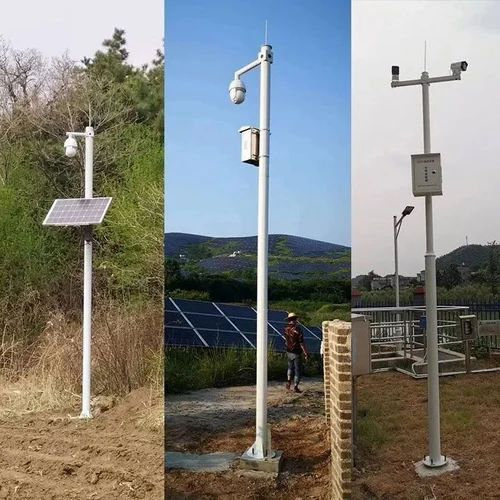light_pole: (411, 67, 450, 476), (244, 48, 278, 466), (76, 119, 104, 428)
